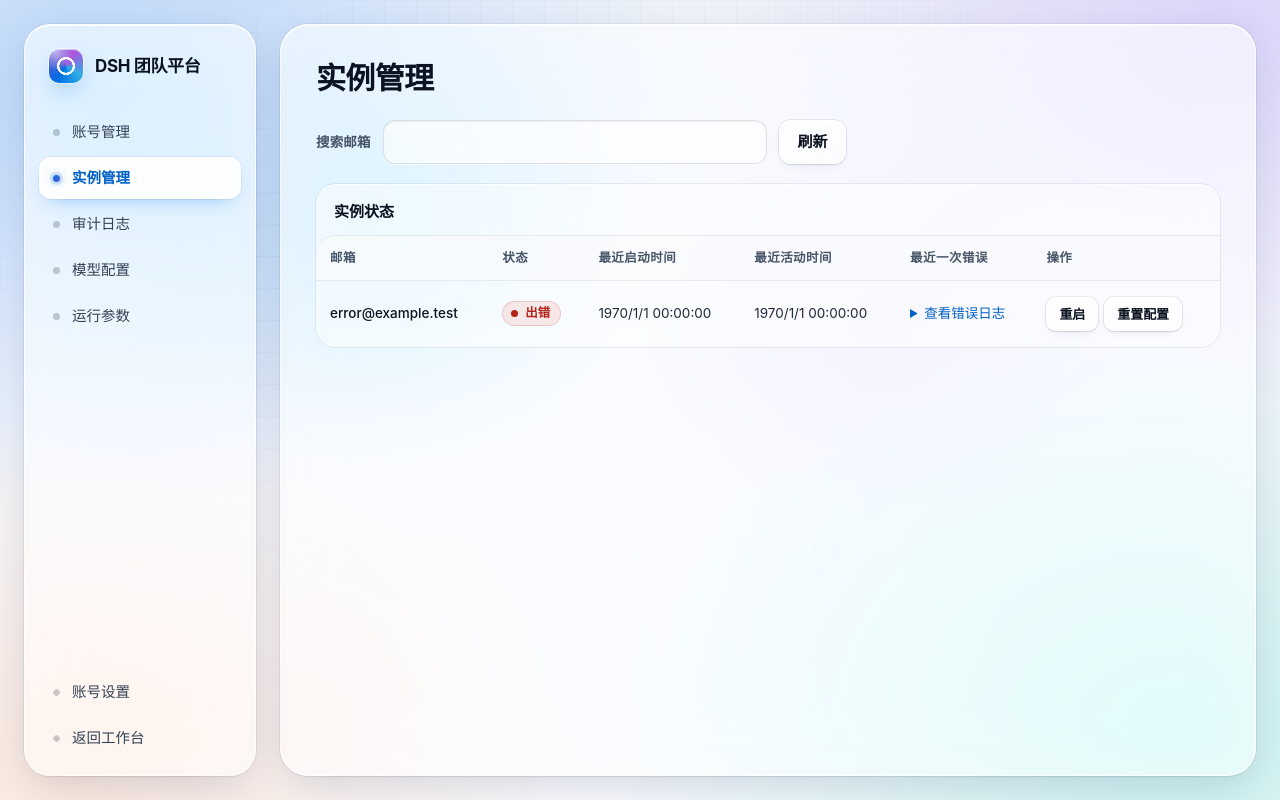
Test: reset failure 409 refreshes durable state without retrying the mutation or displaying raw errors
Click the button "重置配置" at x=1143, y=314, box [1104,297,1182,331]
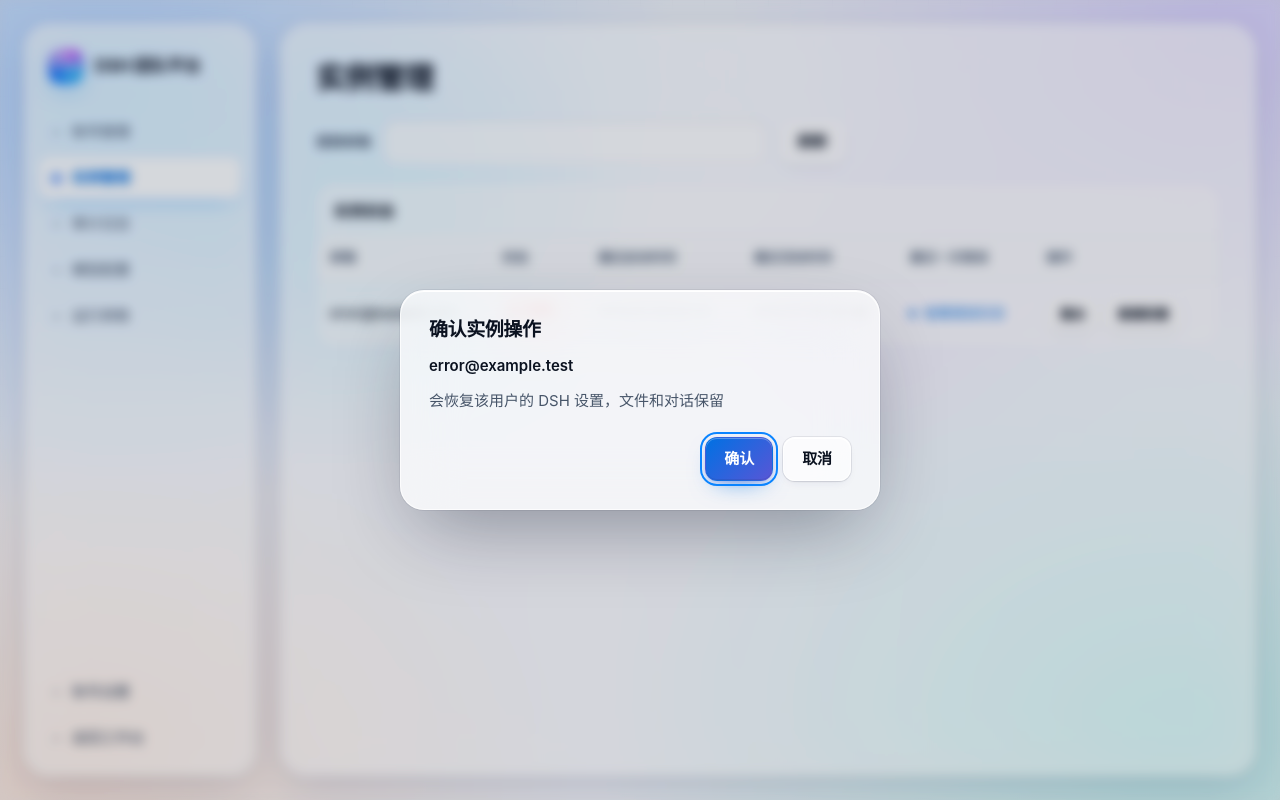
Submit the form, box [705,437,851,481]
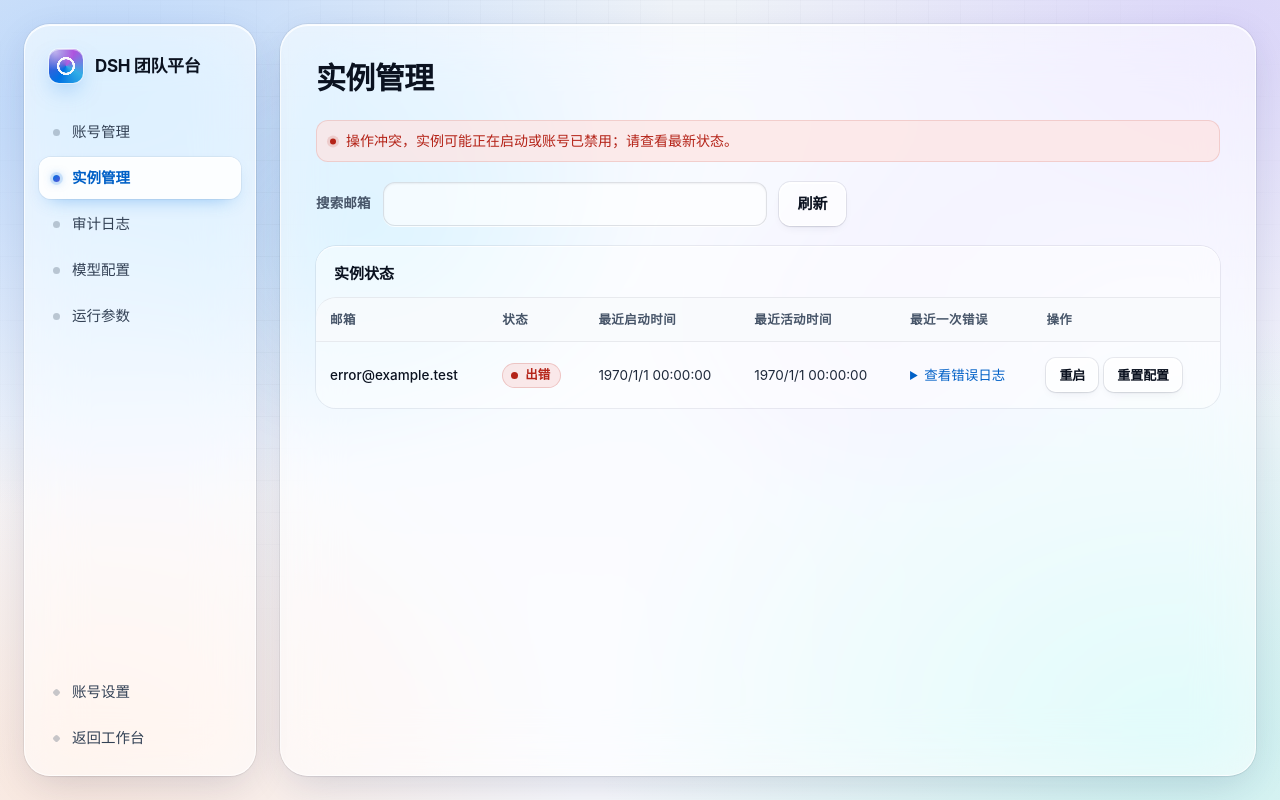
expect the row that starts with "error@example.test" is shown: met, box [330,367,458,383]
expect the message "操作冲突，实例可能正在启动或账号已禁用；请查看最新状态。" is shown: met, box [316,120,1220,162]
